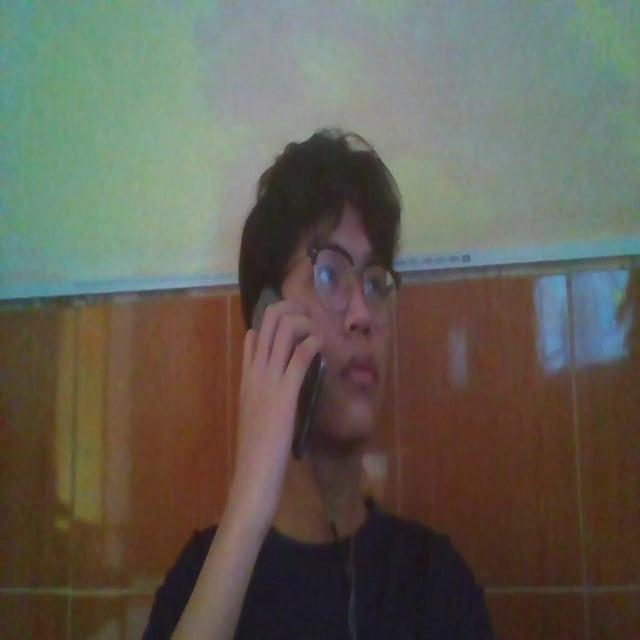phone: (242, 278, 328, 465)
student: (138, 121, 497, 640)
